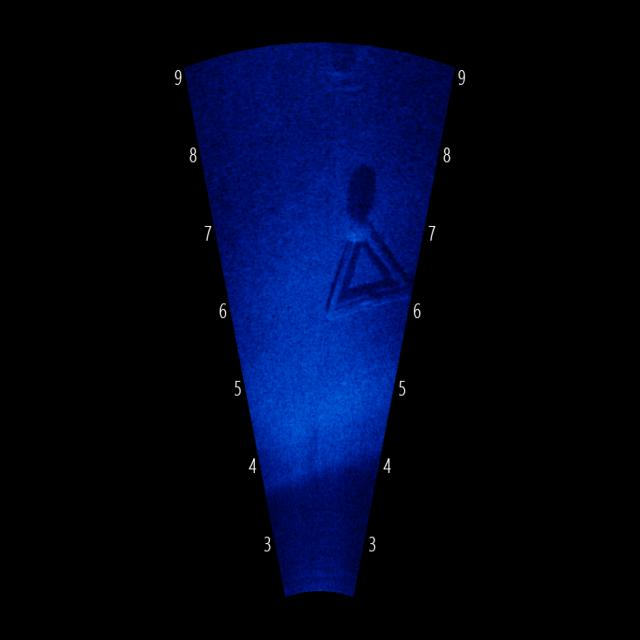triangle: (320, 194, 414, 340)
